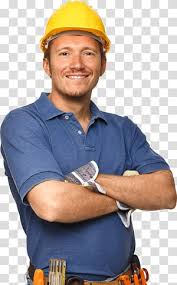Person_wearing_helmet: (34, 0, 118, 57)
